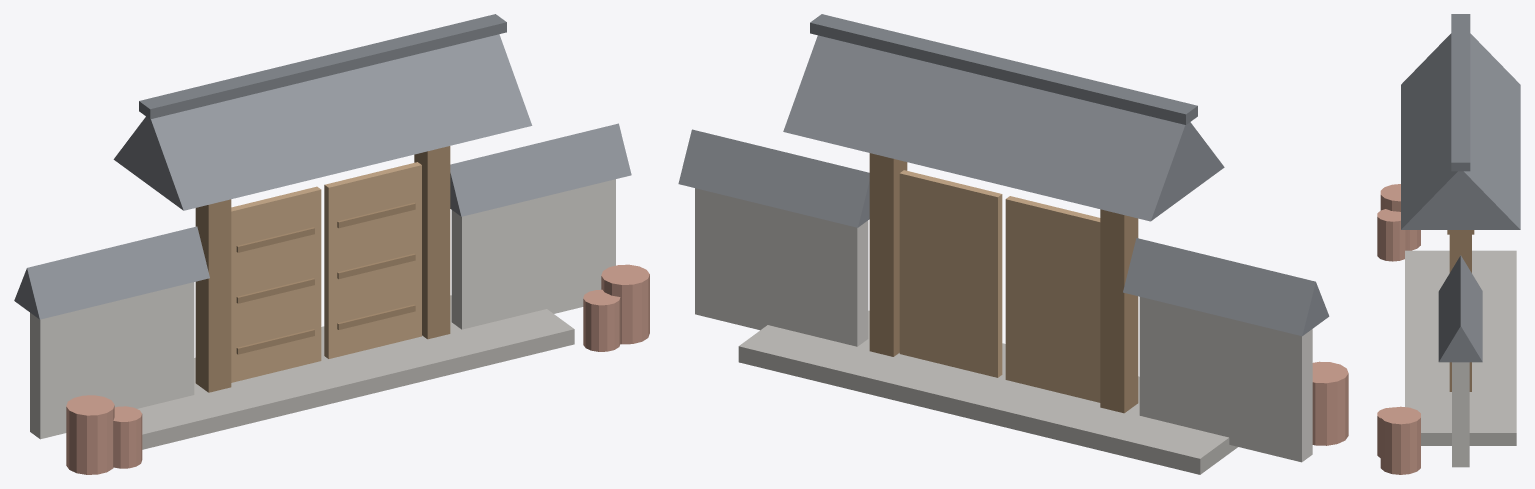
Rendered from webtoon_hanok_courtyard_gate.glb.
3 views of the same model, side by side, from view 1: azimuth 30°, elevation 25°; view 2: azimuth 150°, elevation 25°; view 3: azimuth 270°, elevation 25° (orthographic). The views are drawn at different scales.
Visible parts, largest first — view 1: tile roof, courtyard wall (×2), wall cap tiles (×2), stone threshold, gate door right, gate door left, wood pillar (×2), ridge beam, onggi jar (×2), onggi jar small (×2); view 2: courtyard wall (×2), tile roof, stone threshold, wall cap tiles (×2), gate door right, gate door left, wood pillar (×2), ridge beam, onggi jar; view 3: tile roof, stone threshold, wall cap tiles, onggi jar (×2), ridge beam, courtyard wall, onggi jar small (×2), wood pillar.
Boxes of the visible parts, x1,y1,x2,y2 form: tile roof: [113, 34, 532, 210]; courtyard wall (×2): [30, 179, 615, 439]; wall cap tiles (×2): [14, 123, 631, 319]; stone threshold: [137, 295, 574, 449]; gate door right: [324, 162, 421, 358]; gate door left: [231, 186, 321, 382]; wood pillar (×2): [195, 146, 450, 392]; ridge beam: [139, 14, 506, 119]; onggi jar (×2): [66, 264, 649, 474]; onggi jar small (×2): [113, 289, 620, 468]; courtyard wall (×2): [695, 188, 1312, 462]; tile roof: [783, 35, 1224, 221]; stone threshold: [738, 310, 1237, 474]; wall cap tiles (×2): [678, 129, 1329, 336]; gate door right: [899, 170, 1002, 377]; gate door left: [1005, 196, 1100, 402]; wood pillar (×2): [869, 153, 1138, 413]; ridge beam: [810, 14, 1197, 124]; onggi jar: [1312, 361, 1348, 445]; tile roof: [1401, 33, 1520, 229]; stone threshold: [1405, 250, 1516, 445]; wall cap tiles: [1438, 255, 1482, 362]; onggi jar (×2): [1380, 184, 1420, 474]; ridge beam: [1451, 14, 1470, 171]; courtyard wall: [1452, 362, 1469, 467]; onggi jar small (×2): [1377, 209, 1408, 457]; wood pillar: [1449, 234, 1471, 391].
Size of the model in its own units: 7.3 by 3.68 by 1.79.
